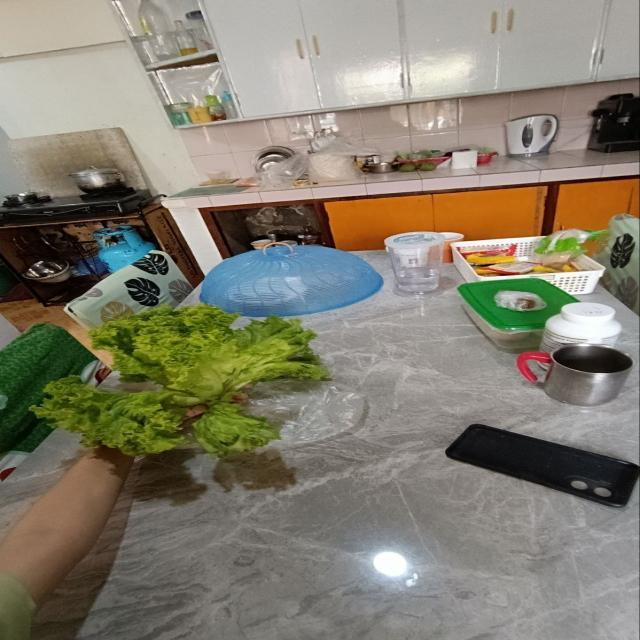Lettuce-Ready-to-Harvest: (34, 305, 328, 455)
